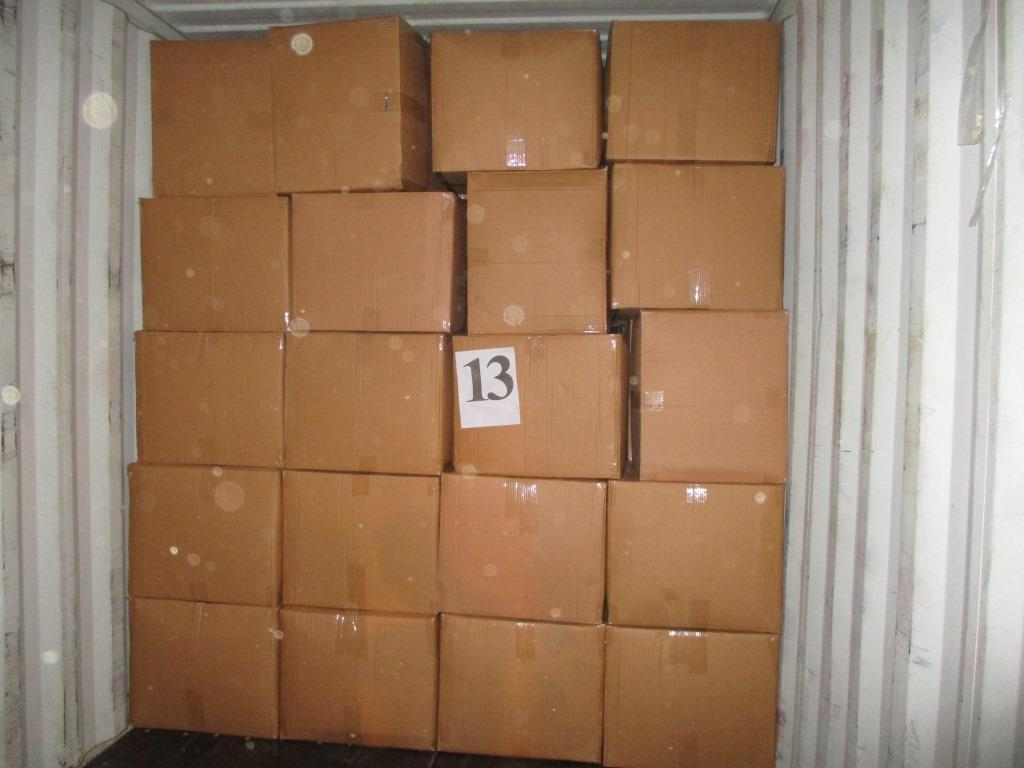carton: (269, 15, 431, 192), (607, 480, 785, 633), (629, 311, 787, 483), (609, 162, 784, 310), (430, 26, 602, 176), (452, 333, 627, 479), (437, 473, 607, 623), (603, 20, 780, 163), (438, 613, 605, 762), (603, 625, 777, 768), (289, 191, 463, 333), (283, 331, 452, 475), (466, 170, 608, 335), (279, 606, 439, 749), (281, 470, 440, 613), (128, 463, 281, 605), (130, 597, 279, 737), (140, 194, 290, 332), (136, 331, 284, 466), (151, 36, 275, 195)
